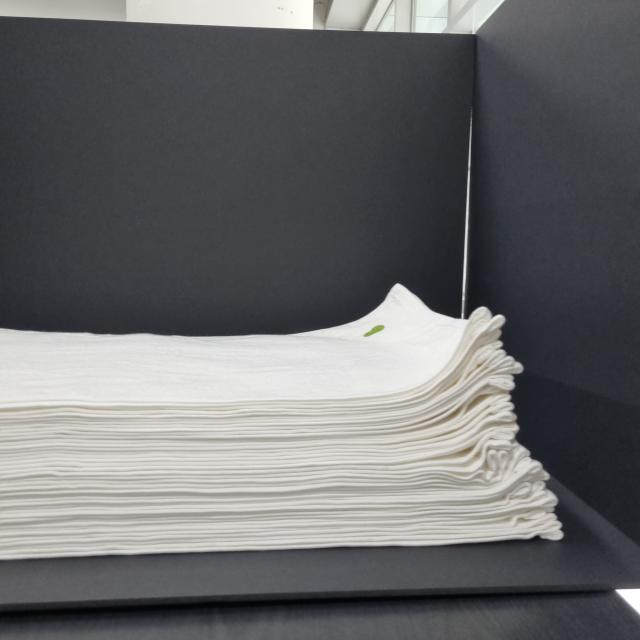not_50count_towel: (0, 266, 572, 575)
